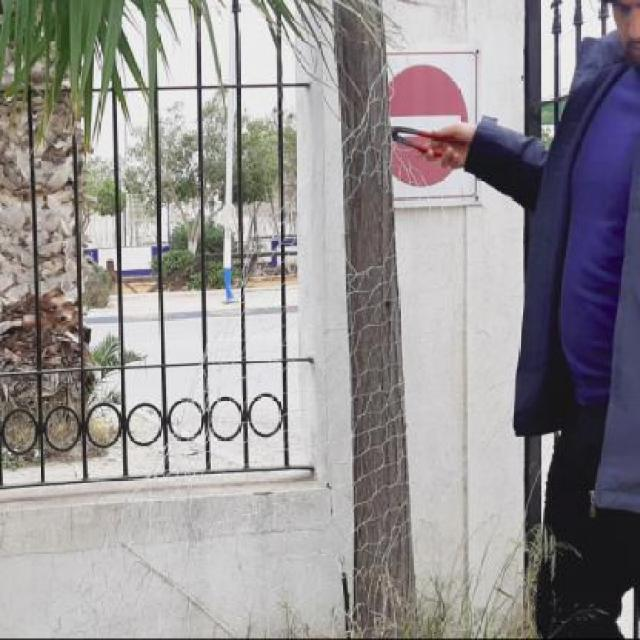fence line: (10, 145, 273, 579), (336, 173, 398, 272)
